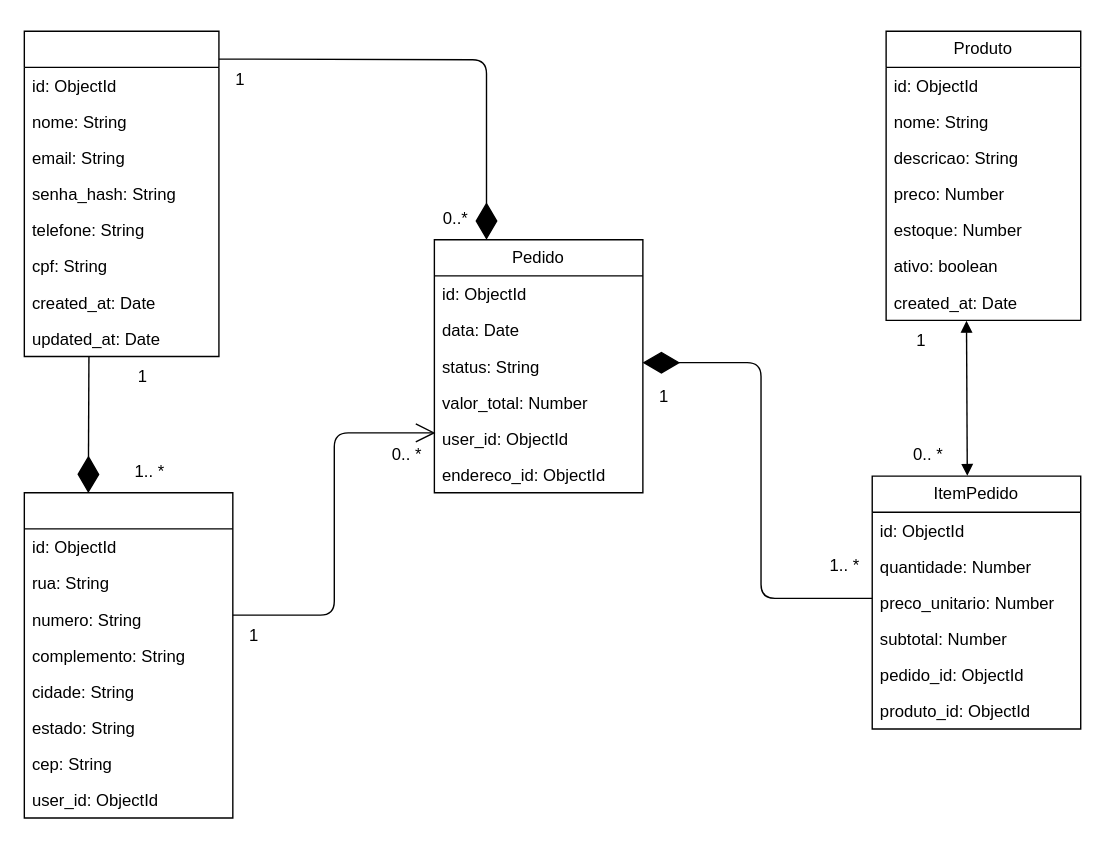
The diagram is 1105 pixels wide and 847 high, and some of its shapes have lost their labels. Here are the shapes that lost their labels. From the top down, the box of each, then its label:
(23, 30, 219, 357): Usuario
(23, 491, 233, 818): Endereço
